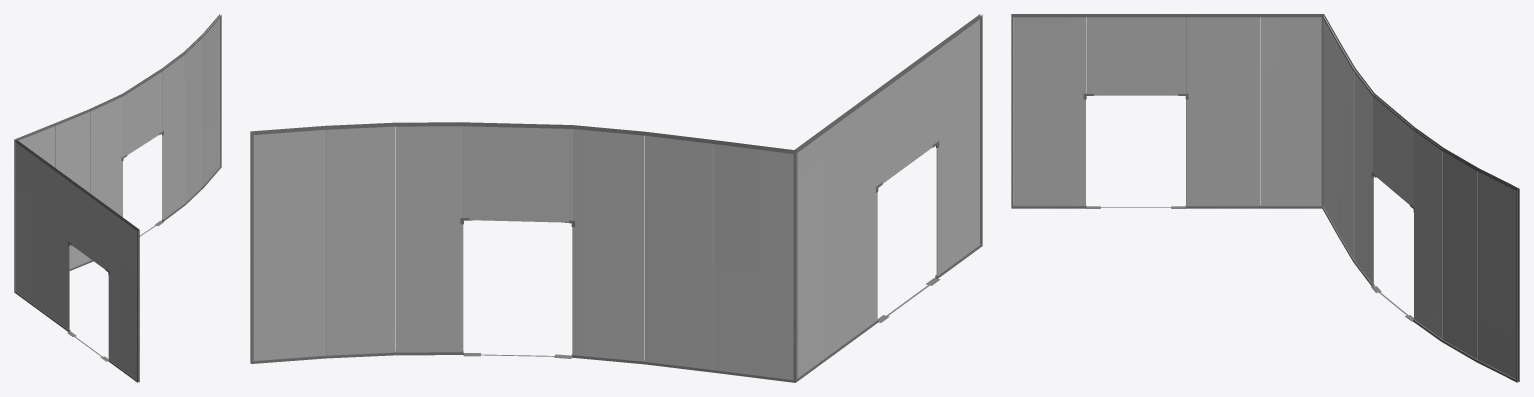
Rendered from SM_StoreFront_Atrium_01.fbx.
3 views of the same model, side by side, from view 1: azimuth 30°, elevation 25°; view 2: azimuth 150°, elevation 25°; view 3: azimuth 270°, elevation 25° (orthographic). The views are drawn at different scales.
Parts seen in each view (by area): view 1: SM_StoreFront_Atrium_01_LOD0; view 2: SM_StoreFront_Atrium_01_LOD0; view 3: SM_StoreFront_Atrium_01_LOD0.
Boxes of the visible parts, x1,y1,x2,y2 form: SM_StoreFront_Atrium_01_LOD0: (14, 14, 221, 382); SM_StoreFront_Atrium_01_LOD0: (250, 14, 982, 382); SM_StoreFront_Atrium_01_LOD0: (1011, 14, 1519, 382).
Bounding box in the file's own units: 841 × 1024 × 430.
